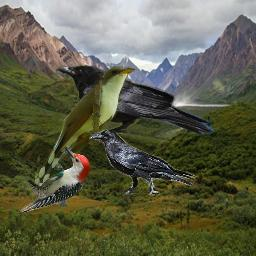Crow: (55, 64, 214, 145), (89, 129, 200, 197)
Cuckoo: (35, 66, 135, 189)
Woodpecker: (20, 147, 90, 213)
